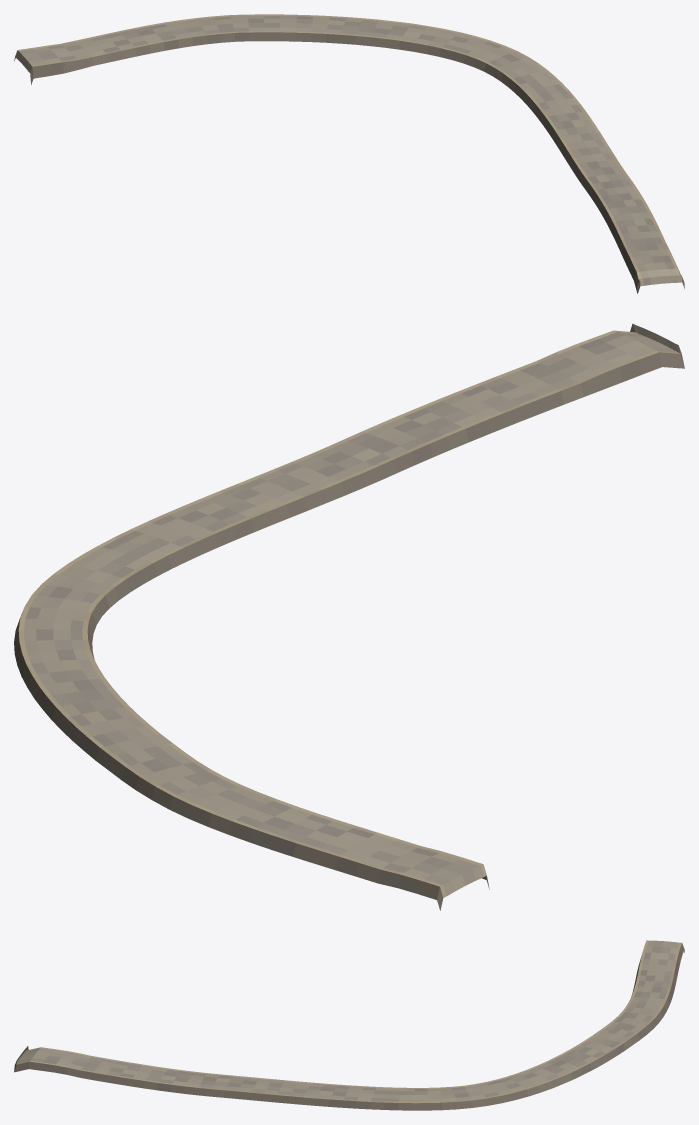
File: road_chapel_lane.glb
3 renders of one model, top to bottom at view 1: azimuth 30°, elevation 25°; view 2: azimuth 150°, elevation 25°; view 3: azimuth 270°, elevation 25°, orthographic. The views are drawn at different scales.
Visible parts, largest first — view 1: road_chapel_lane; view 2: road_chapel_lane; view 3: road_chapel_lane.
Boxes of the visible parts, x1,y1,x2,y2 form: road_chapel_lane: [14, 14, 684, 293]; road_chapel_lane: [14, 323, 684, 910]; road_chapel_lane: [14, 940, 684, 1110].
Size of the model in its own units: 84.95 by 4.35 by 148.
Materials: 1 (1 with a texture image).
